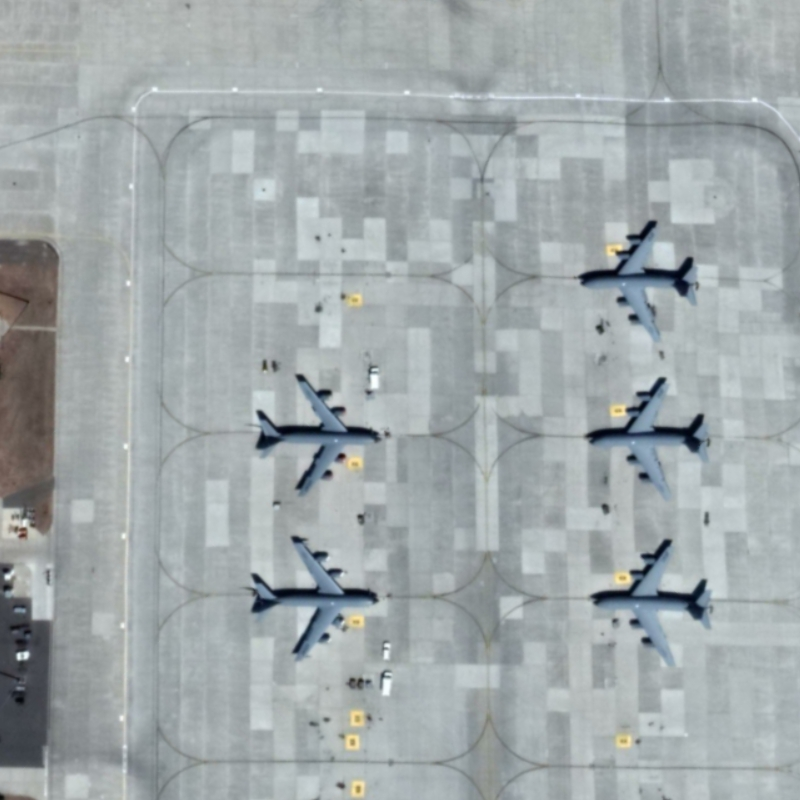A14: (582, 533, 740, 666), (243, 526, 388, 664), (576, 374, 728, 505), (254, 361, 382, 500), (576, 213, 704, 348)
